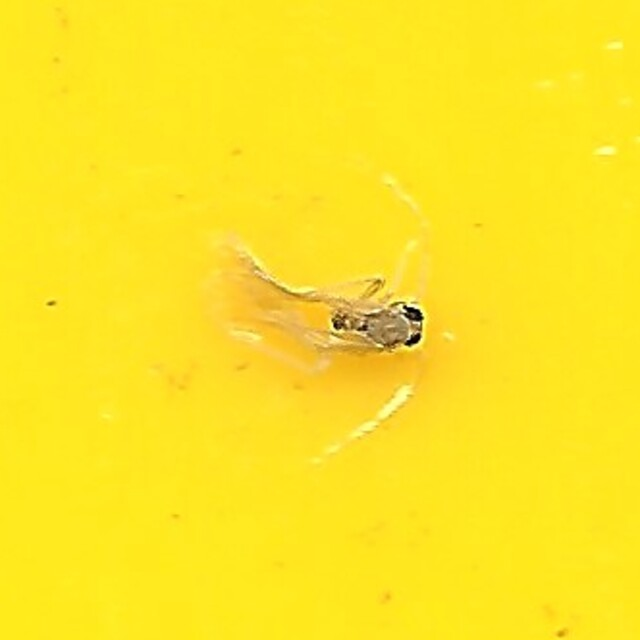Nematocera: (193, 182, 447, 458)
